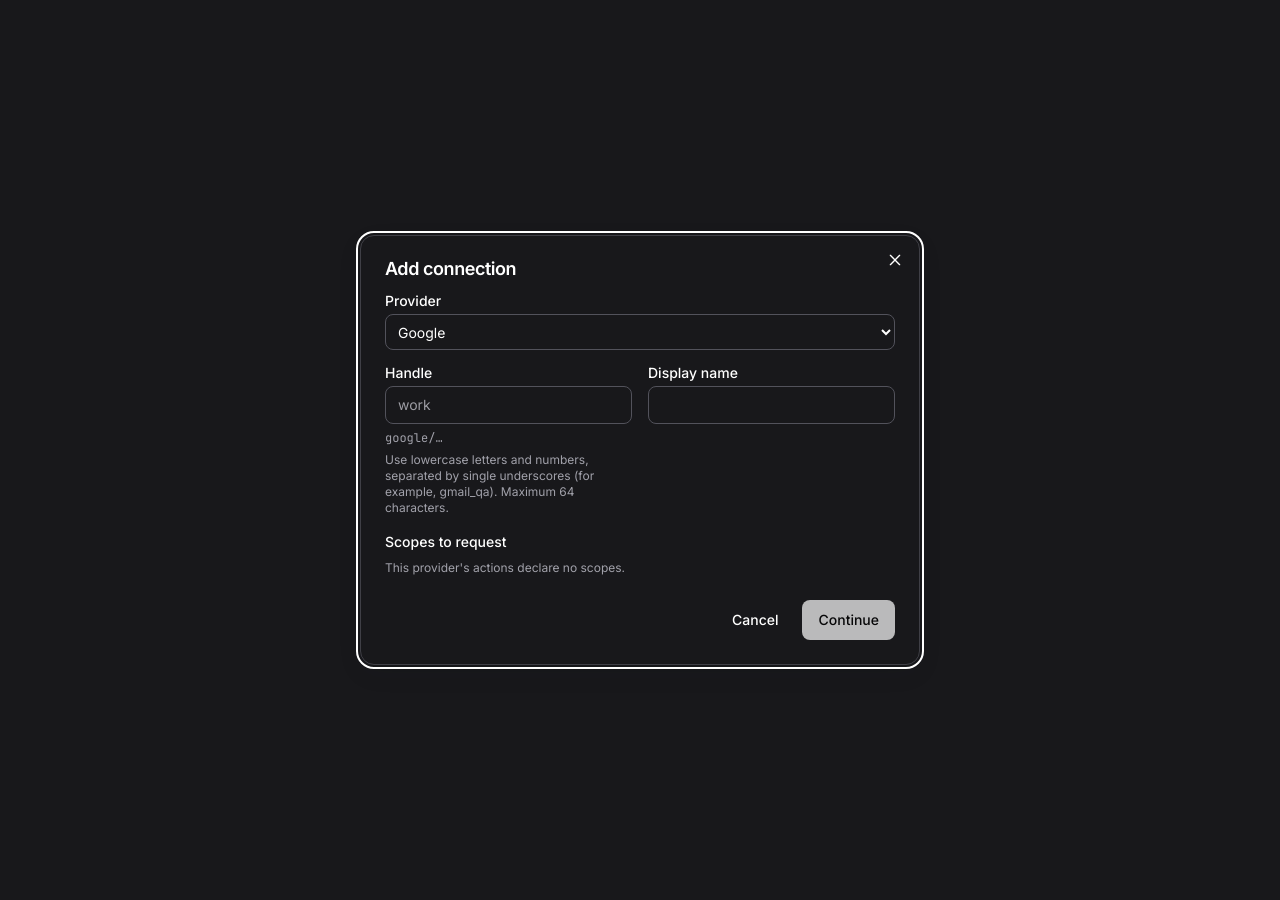
Test: AddConnectionDialog ownership › accepts valid handle gmail_qa
This screenshot has width=1280, height=900.
In the field with test id "connection-name": (508, 405) left=385, top=386, right=632, bottom=424, type "gmail_qa"
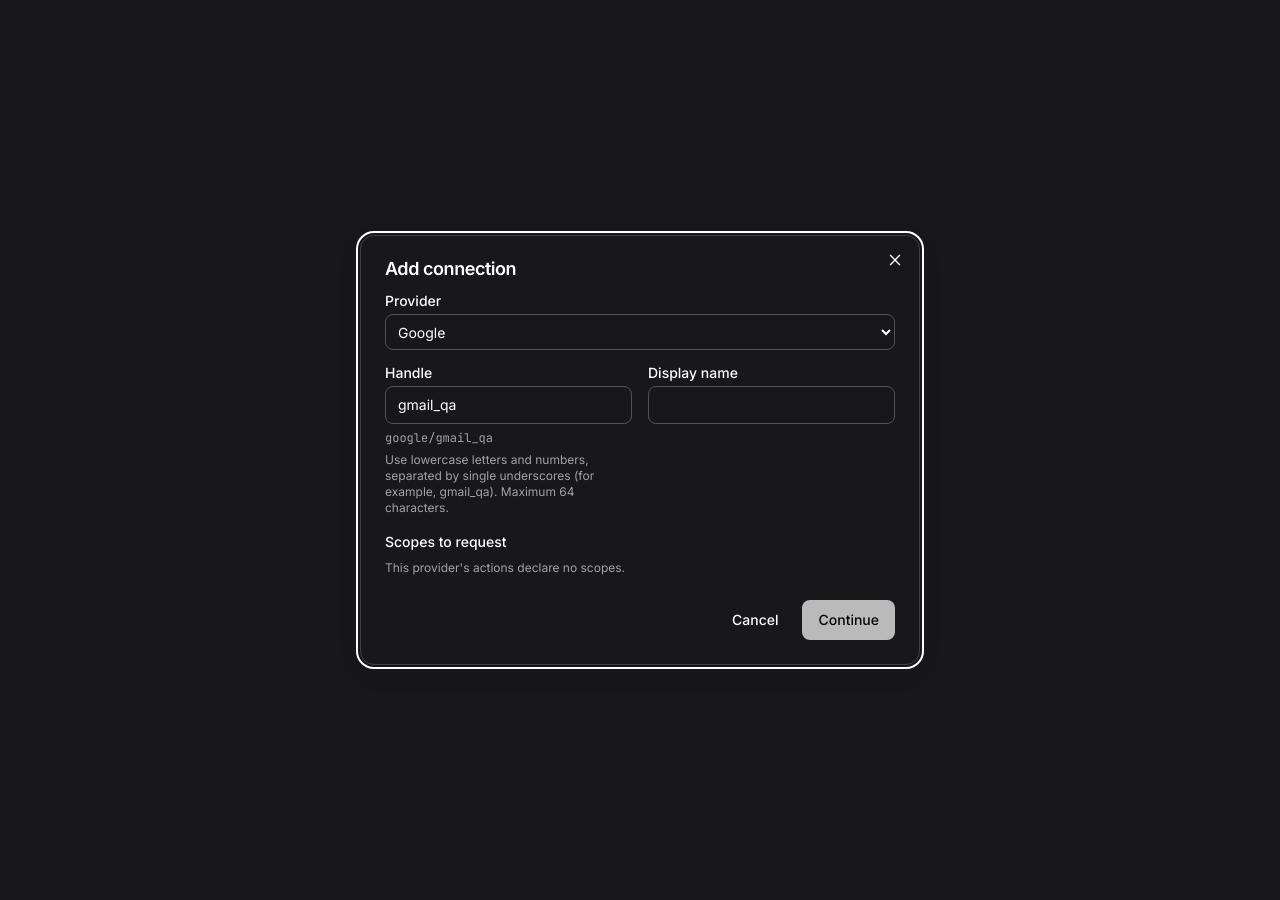
In the field with test id "connection-display-name": (772, 405) left=648, top=386, right=895, bottom=424, type "Gmail"
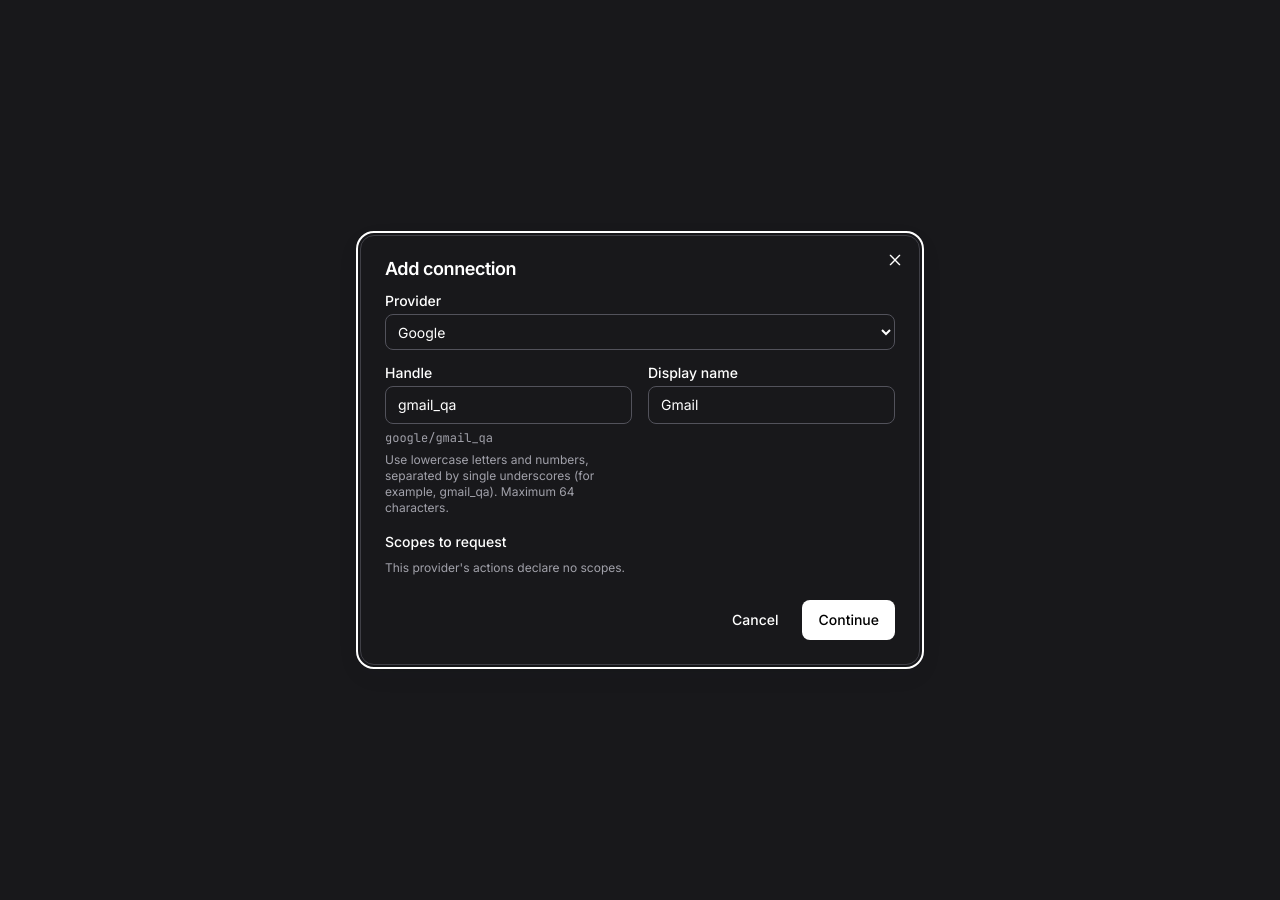
Expected: the button with test id "connection-continue" is enabled, left=802, top=600, right=895, bottom=640
